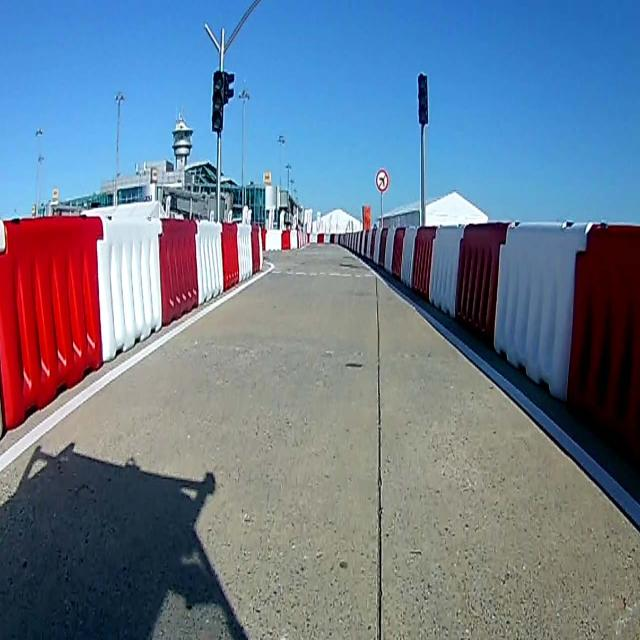soladonulmez: (376, 169, 388, 192)
